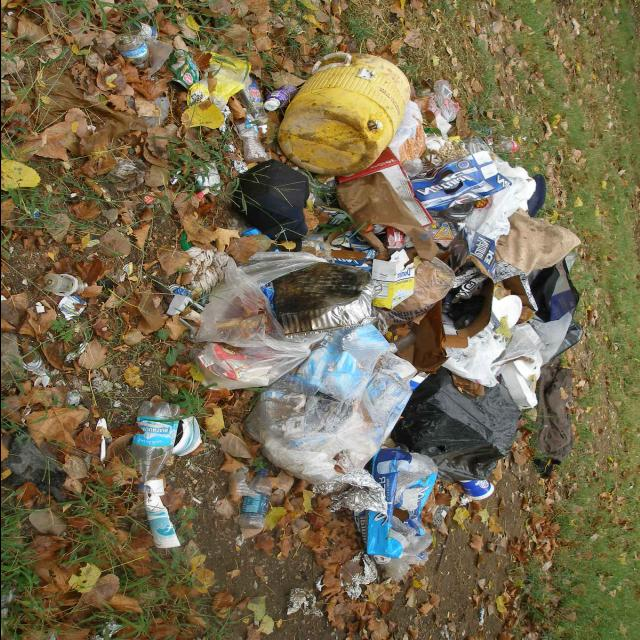garbage: (127, 39, 608, 584)
